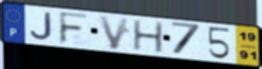5: (207, 26, 232, 61)
7: (170, 21, 203, 58)
F: (58, 11, 91, 46)
H: (132, 19, 165, 55)
J: (29, 11, 54, 41)
V: (97, 14, 132, 51)
